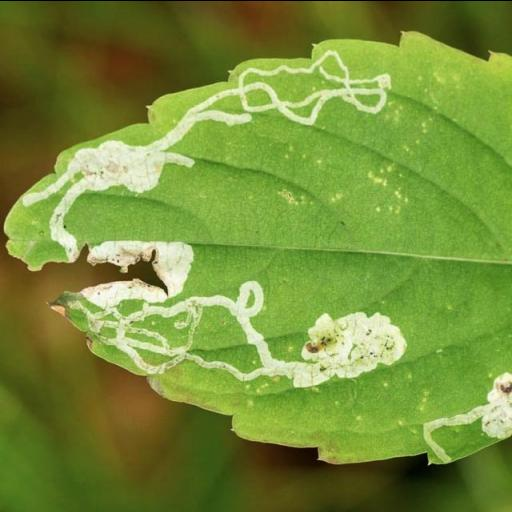disease_tomato: (0, 28, 512, 462)
